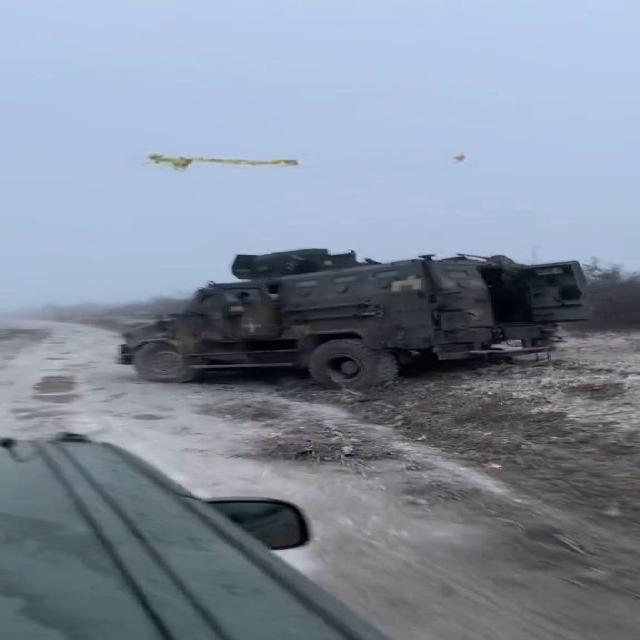Vehicle: (106, 238, 589, 389)
